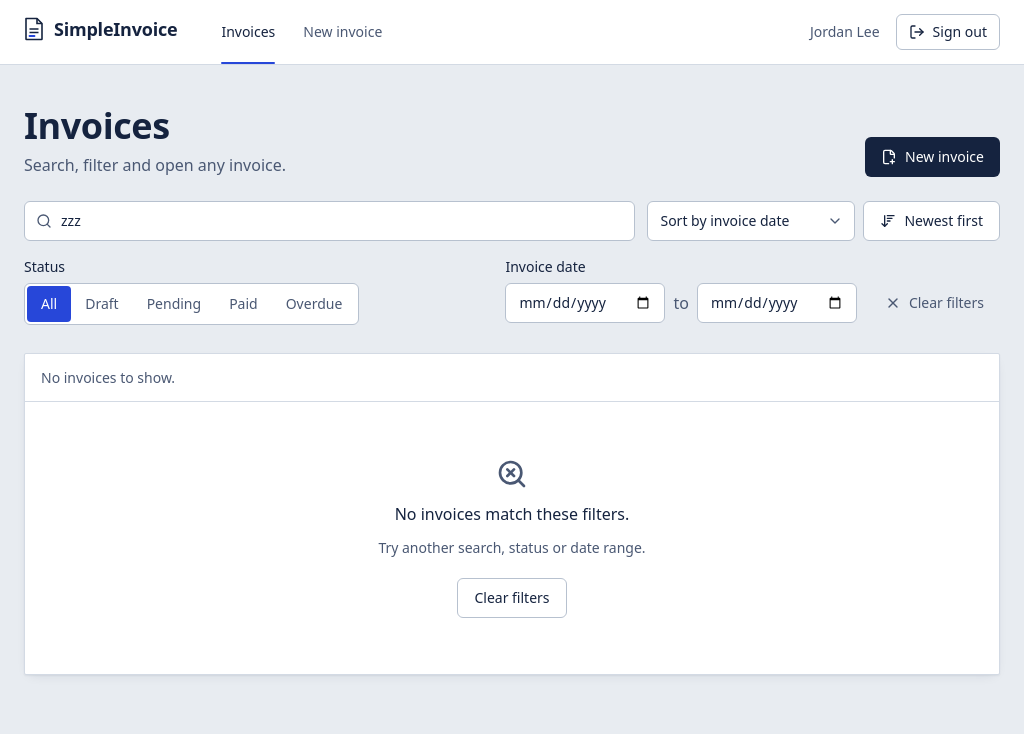
Test: invoice list › offers to clear filters when nothing matches
The width and height of the screenshot is (1024, 734).
Expected: the text "No invoices match these filters." is shown, [395,502,629,526]
Click the button "Clear filters" in the row of "Overdue".
click(934, 303)  # box [869,283,1000,323]
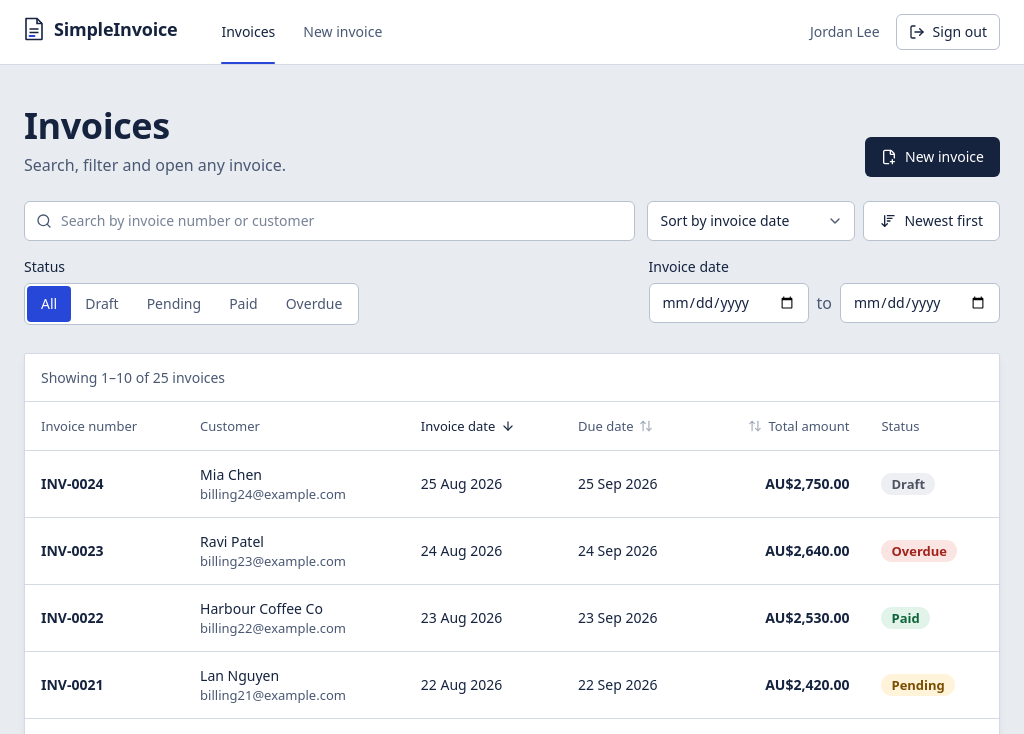
Result: the search field named "Search invoices" is empty at [24,201,636,241]
